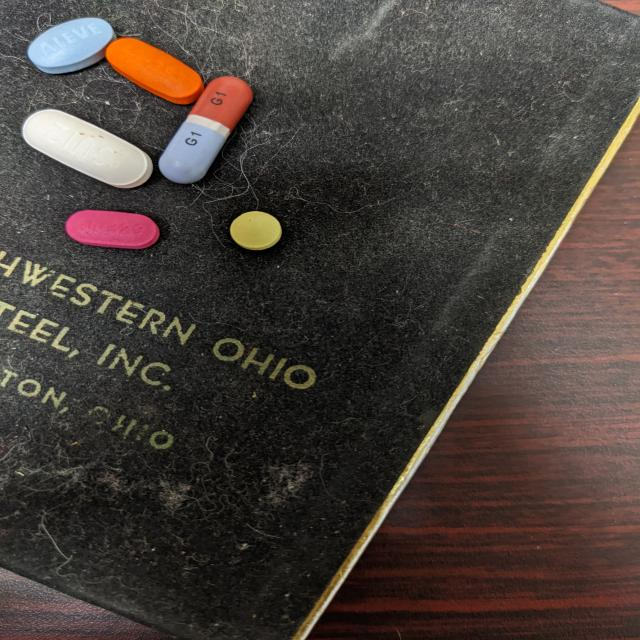non-organic waste: (20, 108, 154, 190), (156, 75, 254, 185), (104, 36, 205, 105), (26, 16, 118, 76), (63, 209, 162, 250), (229, 210, 284, 251)
